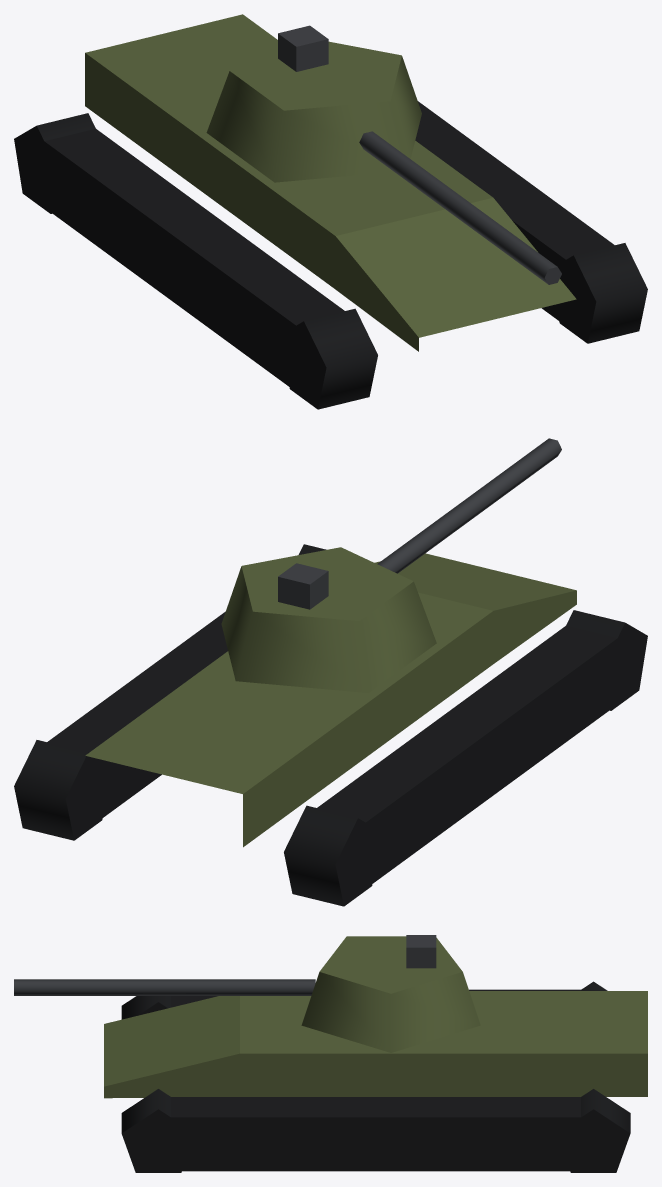
Rendered from veh_ground_tank_heavy_a06_lod1.glb.
3 renders of one model, top to bottom at view 1: azimuth 30°, elevation 25°; view 2: azimuth 150°, elevation 25°; view 3: azimuth 270°, elevation 25°, orthographic. The views are drawn at different scales.
Parts seen in each view (by area): view 1: body, track_r, turret, track_l; view 2: body, track_r, turret, track_l; view 3: body, track_l, turret, track_r.
Part boxes in pixels (x1,y1,x2,y2): body: [85, 14, 576, 351]; track_r: [14, 113, 377, 409]; turret: [206, 41, 561, 284]; track_l: [415, 101, 647, 343]; body: [85, 553, 576, 847]; track_r: [284, 610, 647, 906]; turret: [221, 438, 561, 692]; track_l: [14, 544, 326, 840]; body: [104, 935, 647, 1098]; track_l: [121, 1089, 630, 1172]; turret: [14, 936, 480, 1052]; track_r: [121, 981, 607, 1019].
Bounding box in the file's own units: 4.01 × 2.45 × 8.41.
